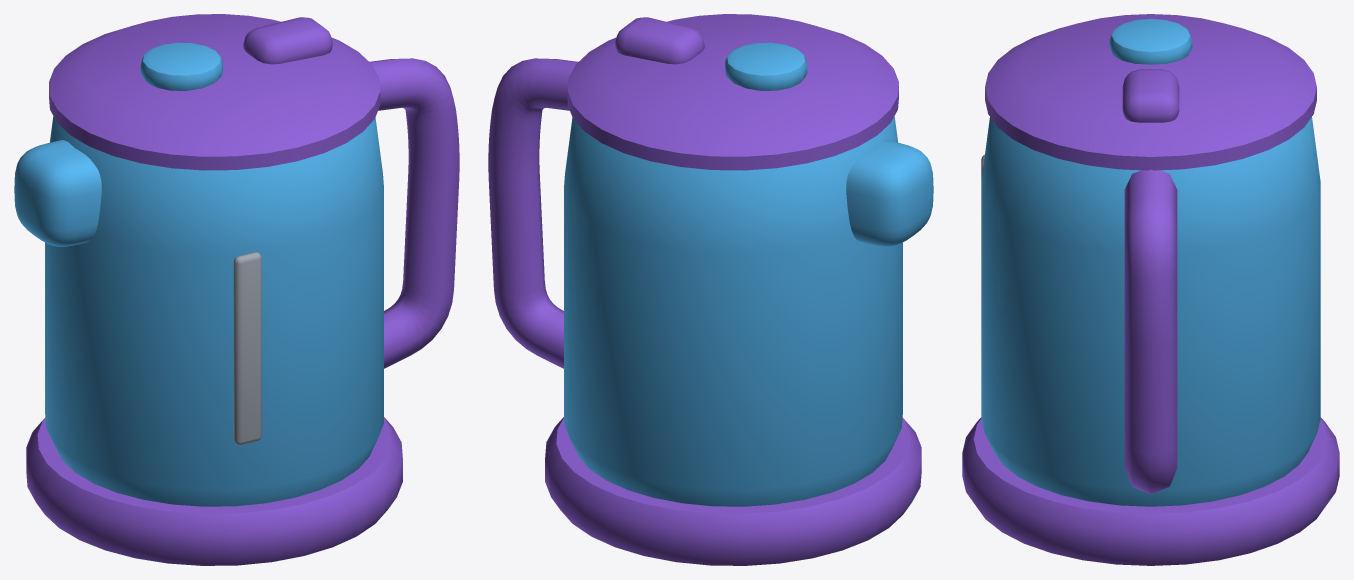
Rendered from chaleira_eletrica_azul.glb.
The picture shows the model from 3 angles, left to right: view 1: azimuth 30°, elevation 25°; view 2: azimuth 150°, elevation 25°; view 3: azimuth 270°, elevation 25°; orthographic projection.
Parts seen in each view (by area): view 1: chaleira_eletrica_azul, tampa; view 2: chaleira_eletrica_azul, tampa; view 3: chaleira_eletrica_azul, tampa.
Boxes of the visible parts, x1,y1,x2,y2 form: chaleira_eletrica_azul: (14, 58, 459, 565); tampa: (49, 14, 380, 170); chaleira_eletrica_azul: (488, 58, 933, 565); tampa: (567, 14, 898, 170); chaleira_eletrica_azul: (962, 117, 1339, 565); tampa: (985, 14, 1316, 170).
Size of the model in its own units: 0.2633 by 0.26 by 0.2.
Materials: 1 (1 with a texture image).
